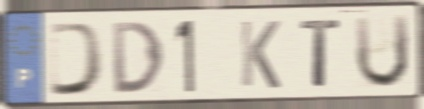1: (173, 17, 197, 96)
D: (47, 20, 108, 98), (109, 19, 168, 97)
K: (237, 18, 283, 92)
T: (298, 17, 345, 89)
U: (352, 11, 412, 92)
